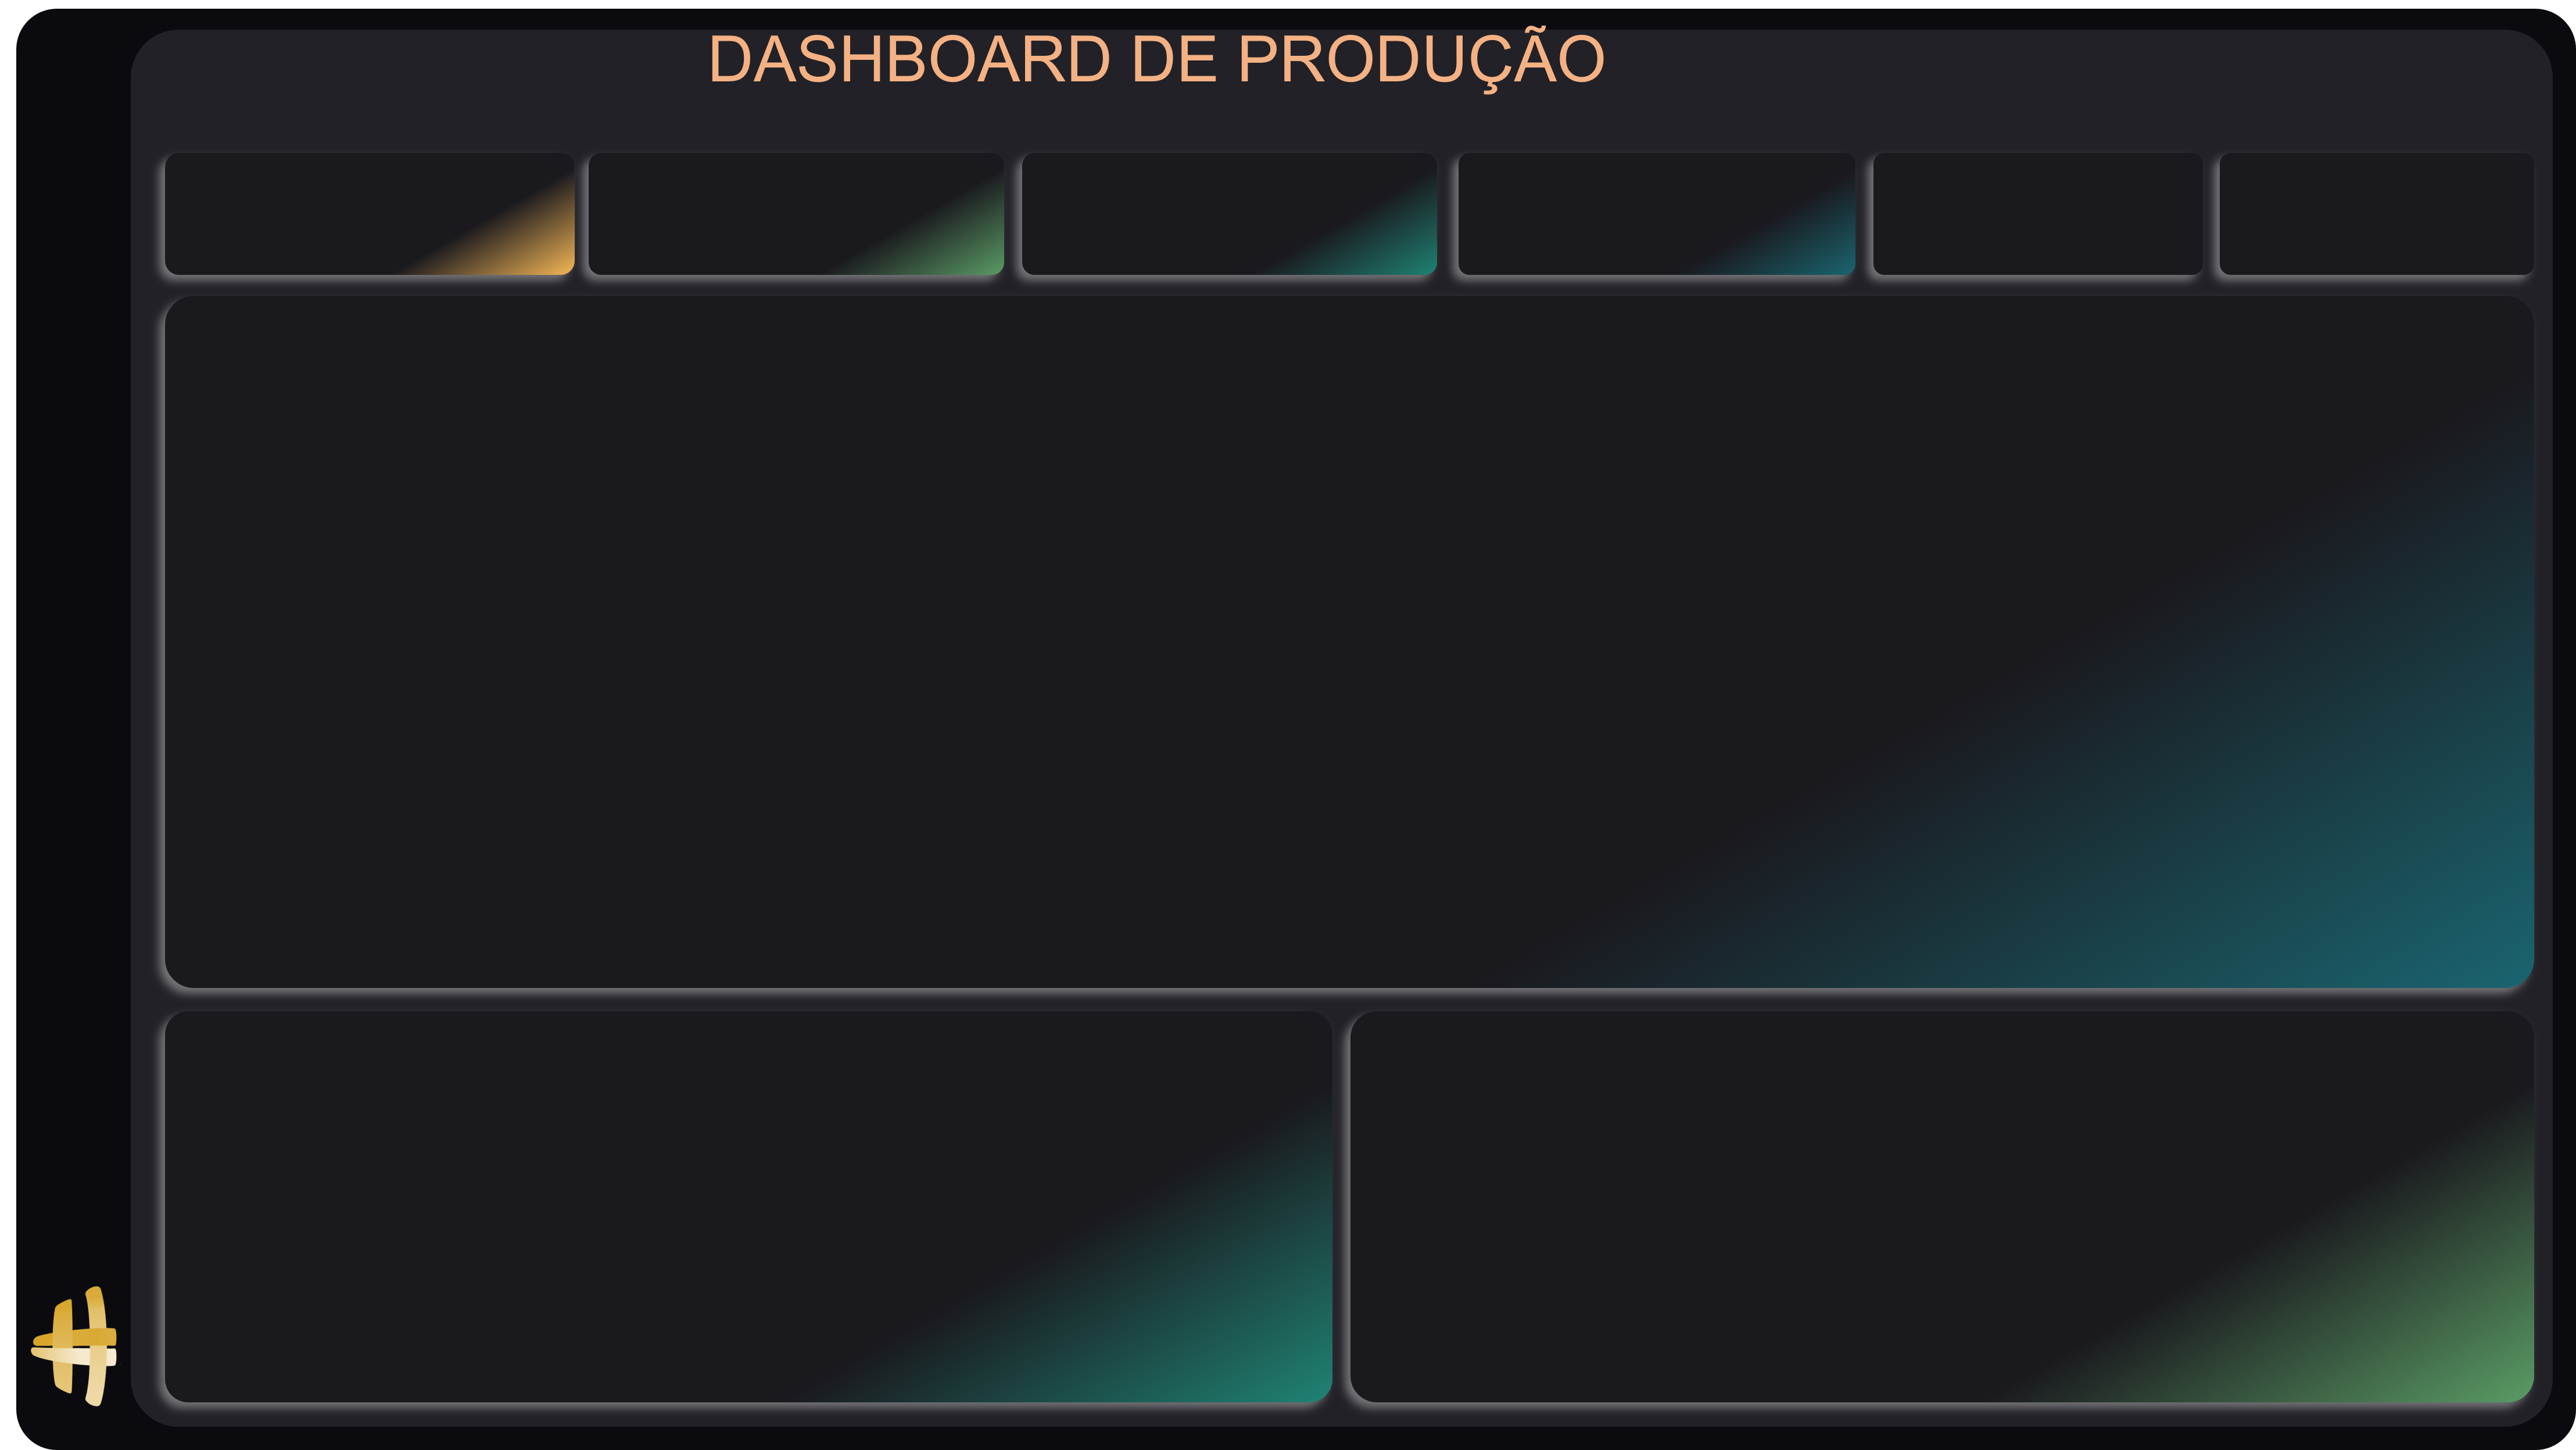

Layout of this report page (visuals, bound fields, positions):
{"tool":"powerbi","page":{"name":"Página 2","canvas":[1280,720],"ordinal":1},"visuals":[{"type":"card","fields":{"Values":["BaseProdução.Total Aprovado"]},"box":[94.2,35.7,182.7,107],"z":0},{"type":"card","fields":{"Values":["Sum(BaseProdução.Qtd Rejeitada)"]},"box":[292.5,40,201.2,102.7],"z":1},{"type":"card","fields":{"Values":["BaseProdução.Total Produzido"]},"box":[885.8,35.4,233.9,107.7],"z":2},{"type":"card","fields":{"Values":["BaseProdução.Total Aprovado"]},"box":[1119.7,39.7,160.2,99.2],"z":3},{"type":"card","fields":{"Values":["BaseProdução.Horas Produtivas"]},"box":[508,40,206.9,102.7],"z":5},{"type":"card","fields":{"Values":["BaseProdução.Horas Paradas"]},"box":[729.2,40,191.2,102.7],"z":6},{"type":"areaChart","fields":{"Y":["BaseProdução.Horas Produtivas"],"Category":["BaseProdução.Data Inicio.Variation.Hierarquia de datas.Mês"]},"box":[94.2,161.2,1164.4,322.5],"z":7},{"type":"card","fields":{"Values":["BaseProdução.% Produtividade"]},"box":[94.2,520.8,560.8,169.8],"z":8},{"type":"card","fields":{"Values":["BaseProdução.% Qualidade"]},"box":[676.4,520.8,560.8,169.8],"z":9}]}

Visuals, with their boxes in screenshot pixels (x1, y1, x2, y2), scaled from the page's 1280x720 canvas onto the 2576x1450 screenshot:
card - BaseProdução.Total Aprovado: crop(189, 72, 557, 287)
card - Sum(BaseProdução.Qtd Rejeitada): crop(589, 81, 994, 287)
card - BaseProdução.Total Produzido: crop(1783, 71, 2253, 288)
card - BaseProdução.Total Aprovado: crop(2253, 80, 2575, 280)
card - BaseProdução.Horas Produtivas: crop(1022, 81, 1439, 287)
card - BaseProdução.Horas Paradas: crop(1467, 81, 1853, 287)
areaChart - BaseProdução.Horas Produtivas x BaseProdução.Data Inicio.Variation.Hierarquia de datas.Mês: crop(189, 325, 2533, 974)
card - BaseProdução.% Produtividade: crop(189, 1049, 1318, 1391)
card - BaseProdução.% Qualidade: crop(1362, 1049, 2490, 1391)
